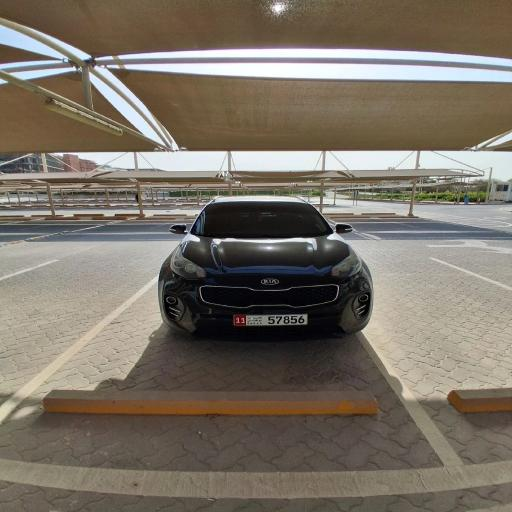license-plates: (234, 314, 308, 326)
